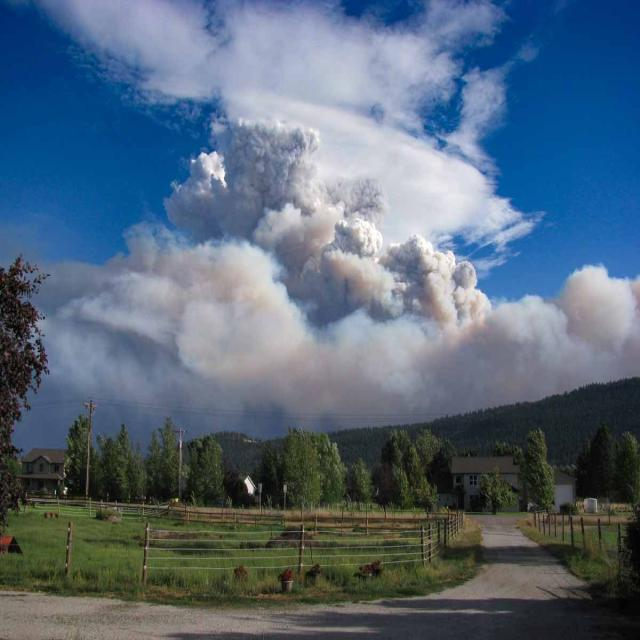Smoke: (3, 240, 640, 420), (181, 100, 458, 326)
